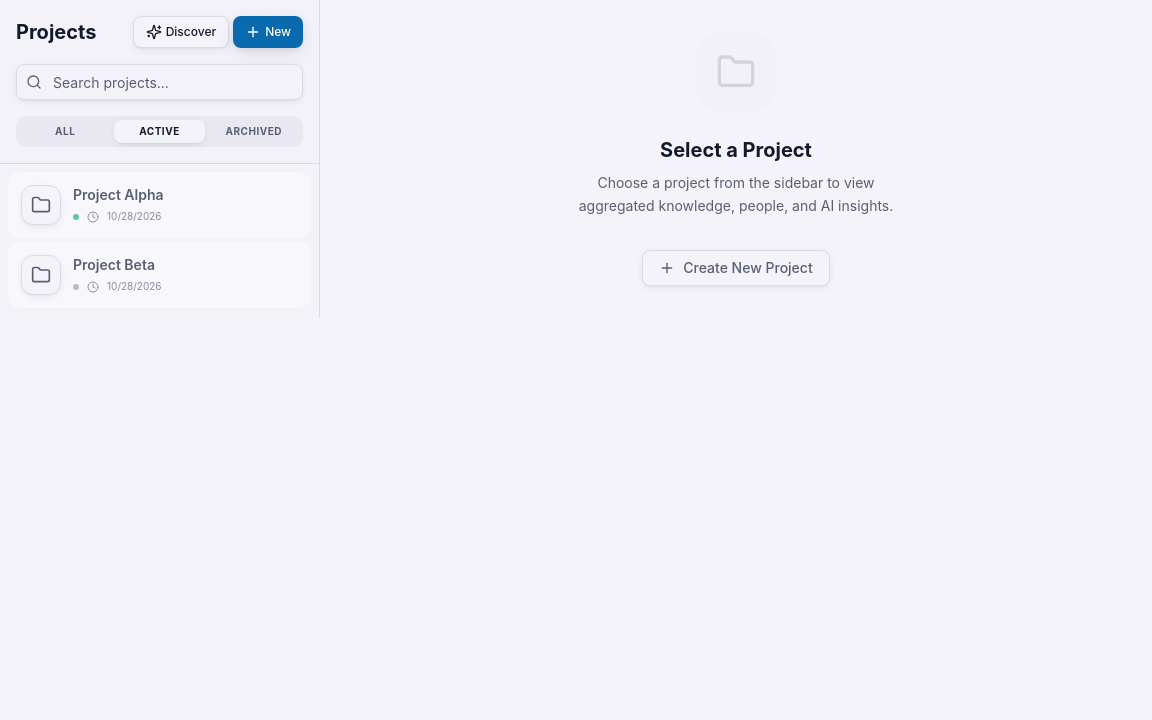
Test case: Projects Page › should resolve project members in parallel
// Click to select the project
What coordinates should you click on to do the following:
click the text "Project Alpha"
I would click on:
 (118, 194)
Its box is [73,186,164,203].
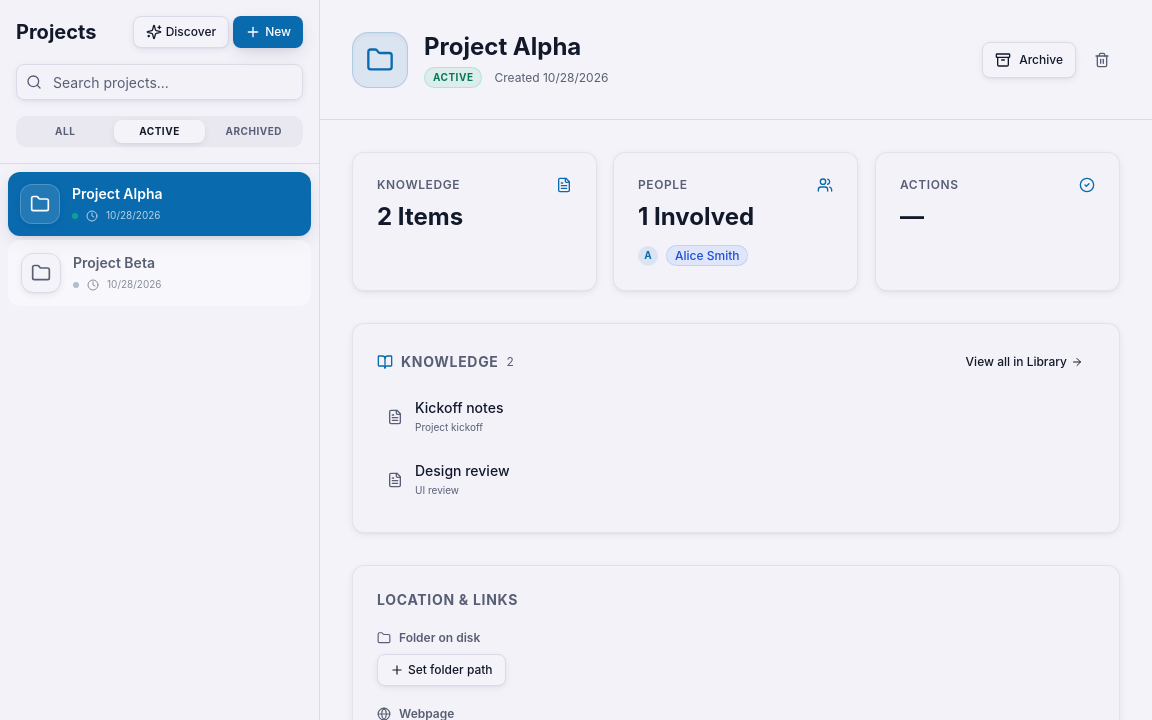
Now the text "Alice Smith" is shown, box [675,248,740,263]
